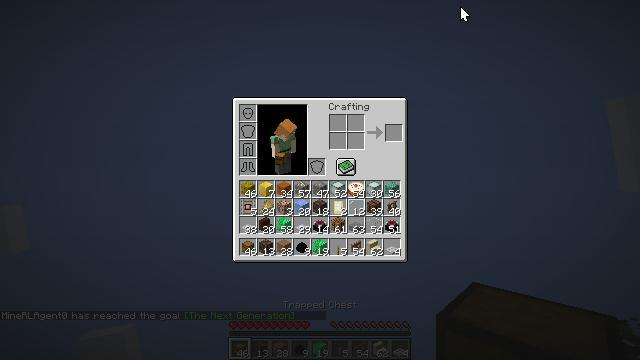cursor: (460, 6, 470, 22)
